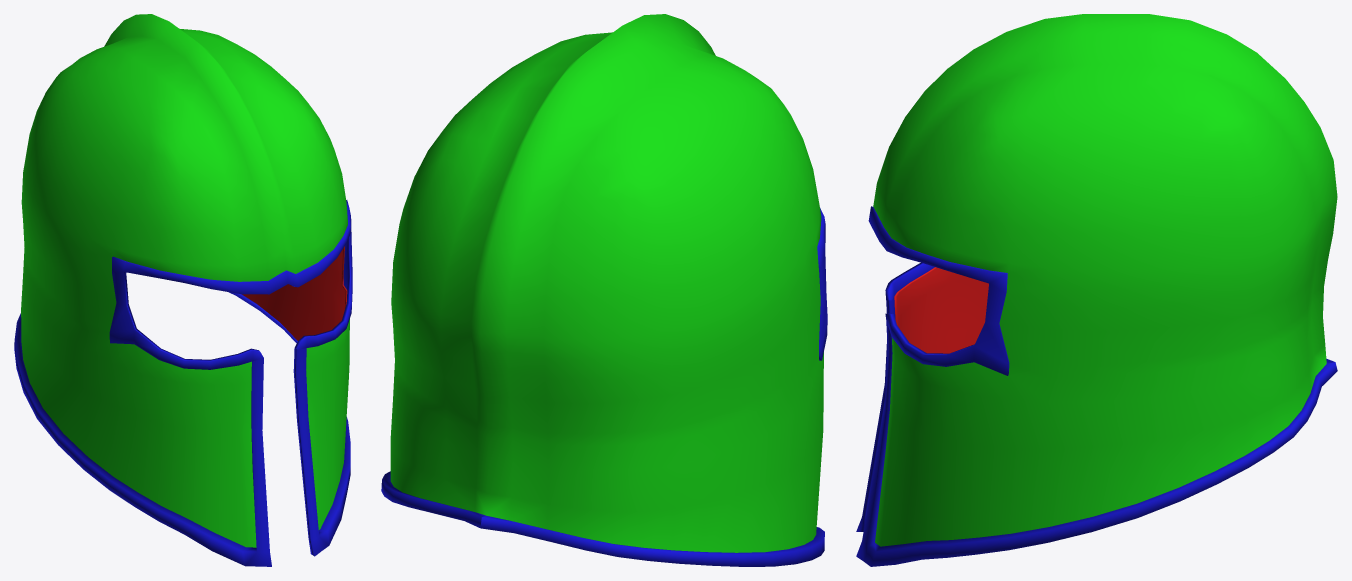
3 renders of one model, left to right at view 1: azimuth 30°, elevation 25°; view 2: azimuth 150°, elevation 25°; view 3: azimuth 270°, elevation 25°, orthographic. The views are drawn at different scales.
Visible parts, largest first — view 1: Barbuta.001; view 2: Barbuta.001; view 3: Barbuta.001.
Part boxes in pixels (left/top/right/bottom): Barbuta.001: left=14, top=14, right=352, bottom=566; Barbuta.001: left=381, top=14, right=827, bottom=566; Barbuta.001: left=856, top=14, right=1337, bottom=566.
Size of the model in its own units: 1.28 by 2 by 1.65.
